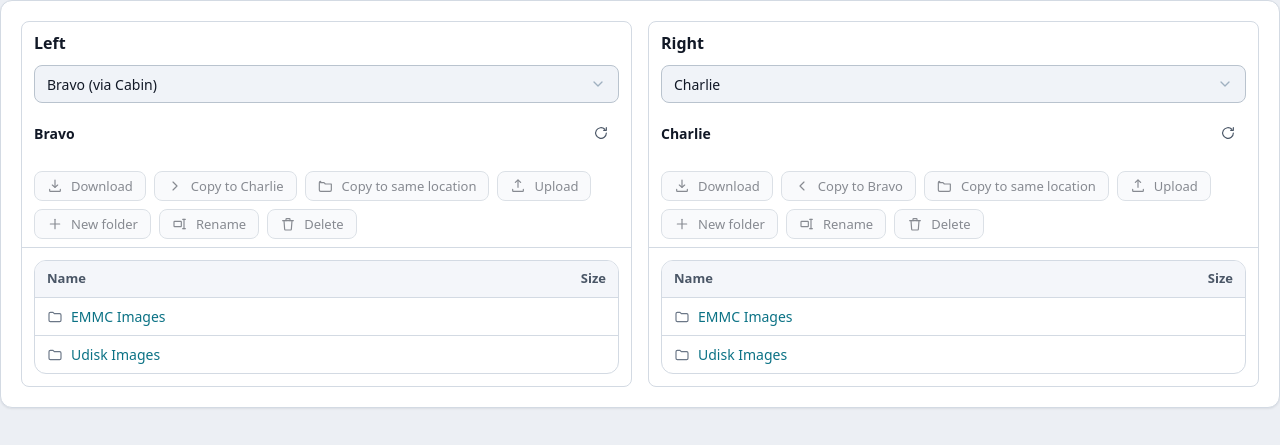
DeviceFilesPanel › defaults Left and Right to the first two online rigs and lists their shares
Expected: the dropdown named "Left pane rig" shows "Bravo (via Cabin)", [34,65,619,103]
Expected: the button "Copy to Charlie" is disabled, [154,171,297,201]
Click the 1st button "EMMC Images" at point(118, 316), box [71,306,166,327]
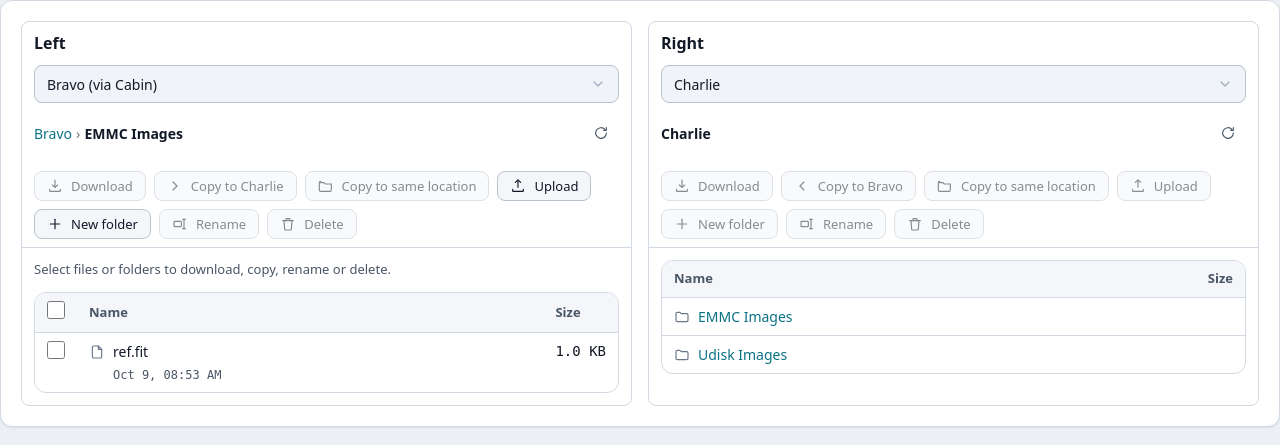
Expected: the checkbox named "Select ref.fit (Bravo)" is shown
Click the checkbox named "Select ref.fit (Bravo)" at point(56, 350), box [47,341,65,359]
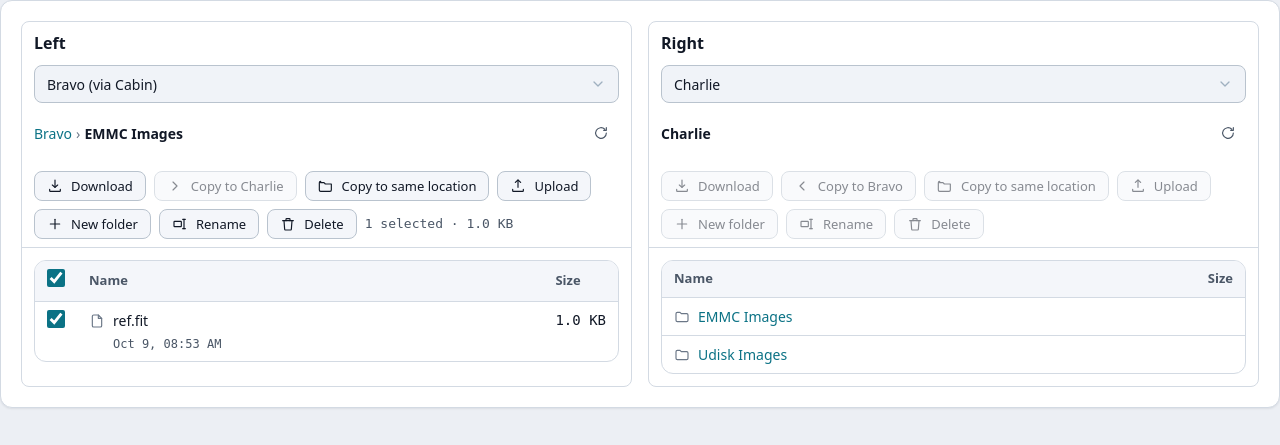
Expected: the text "1 selected · 1.0 KB" is shown, [365,214,513,234]
